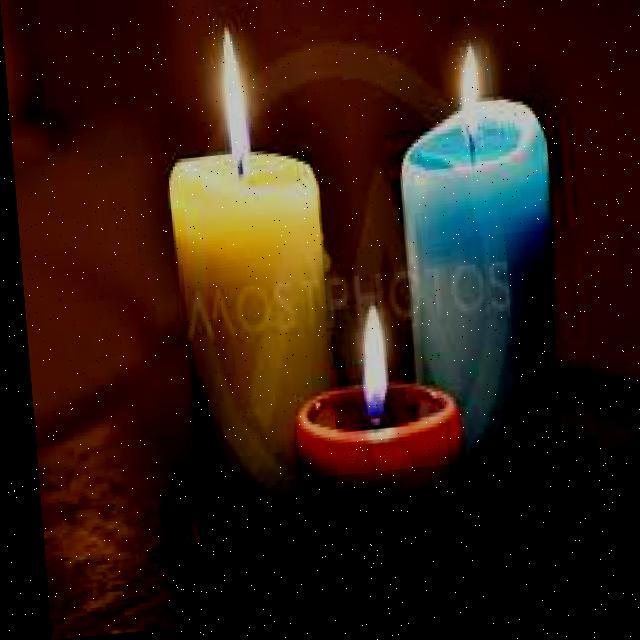Fire: (339, 301, 393, 424), (214, 24, 249, 173), (450, 44, 484, 144)
